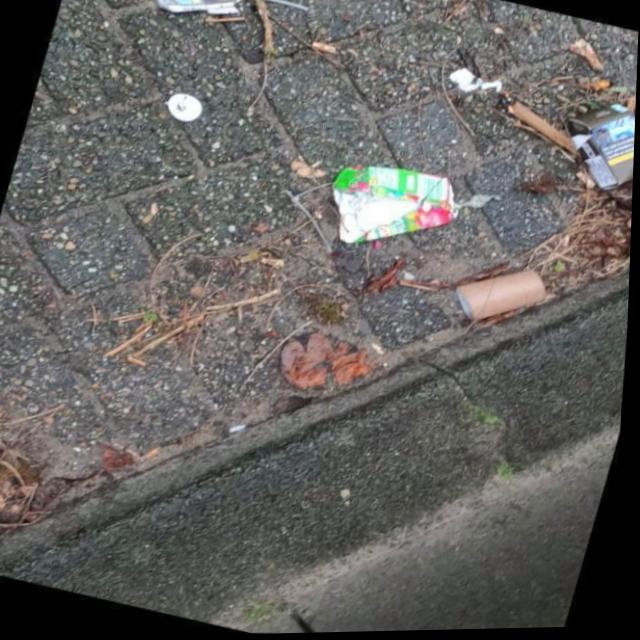Paper: (556, 95, 637, 197), (120, 0, 255, 28)
Plastic: (326, 156, 465, 252)
